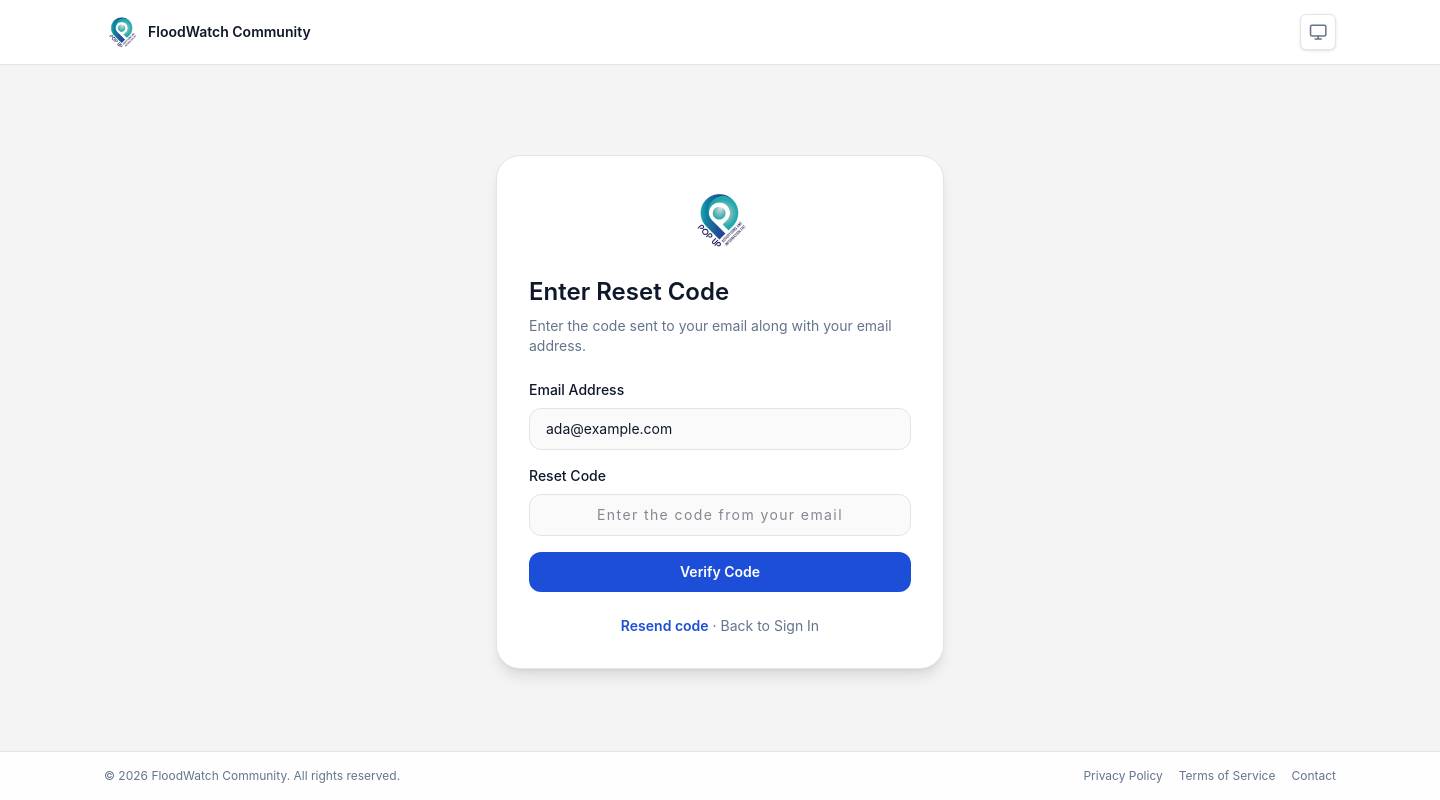
Test: Community · reset password › resets the password and shows the success panel
In the field with test id "reset-code": (720, 515) [529, 494, 911, 536], type "123456"
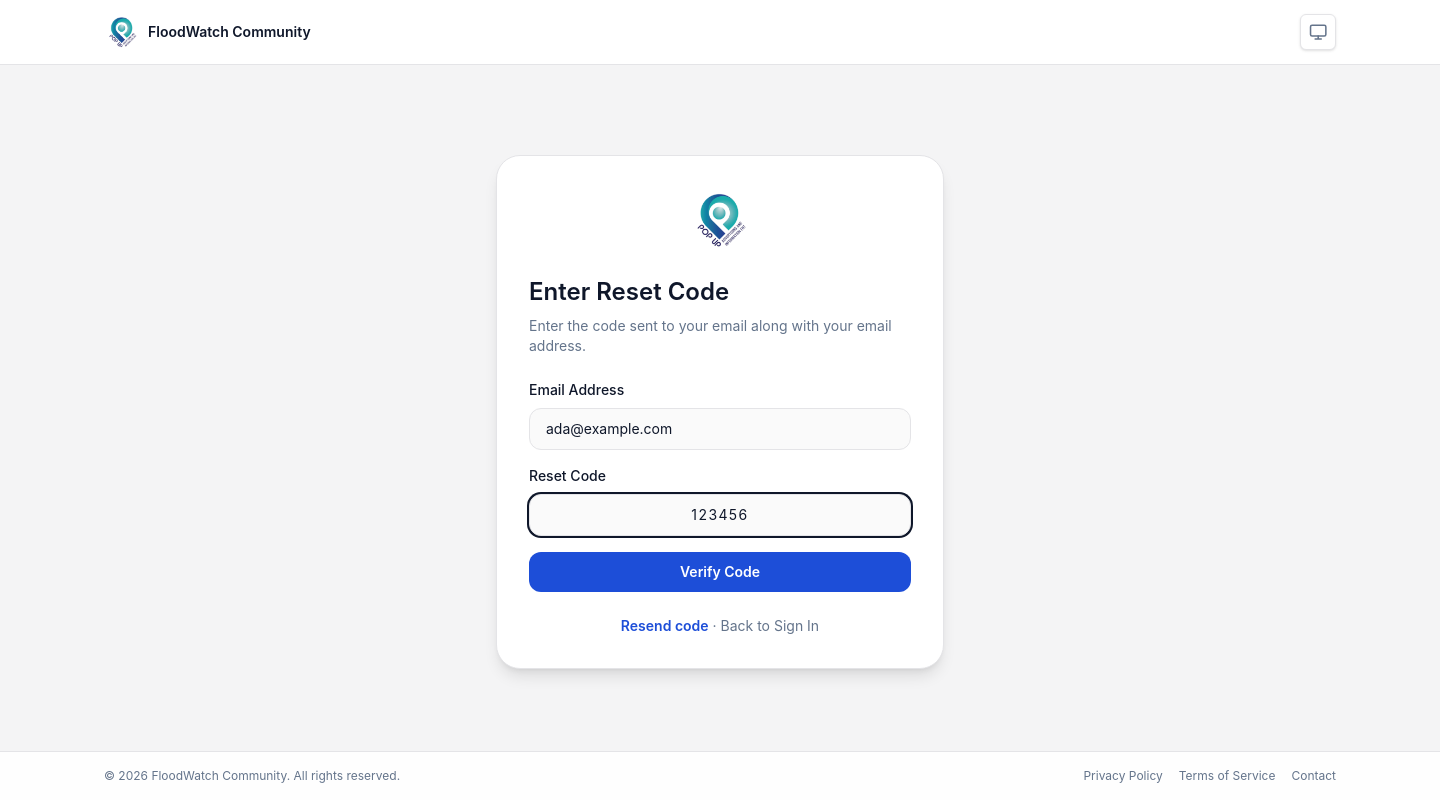
Click the button with test id "reset-verify-submit": (720, 572) [529, 552, 911, 592]
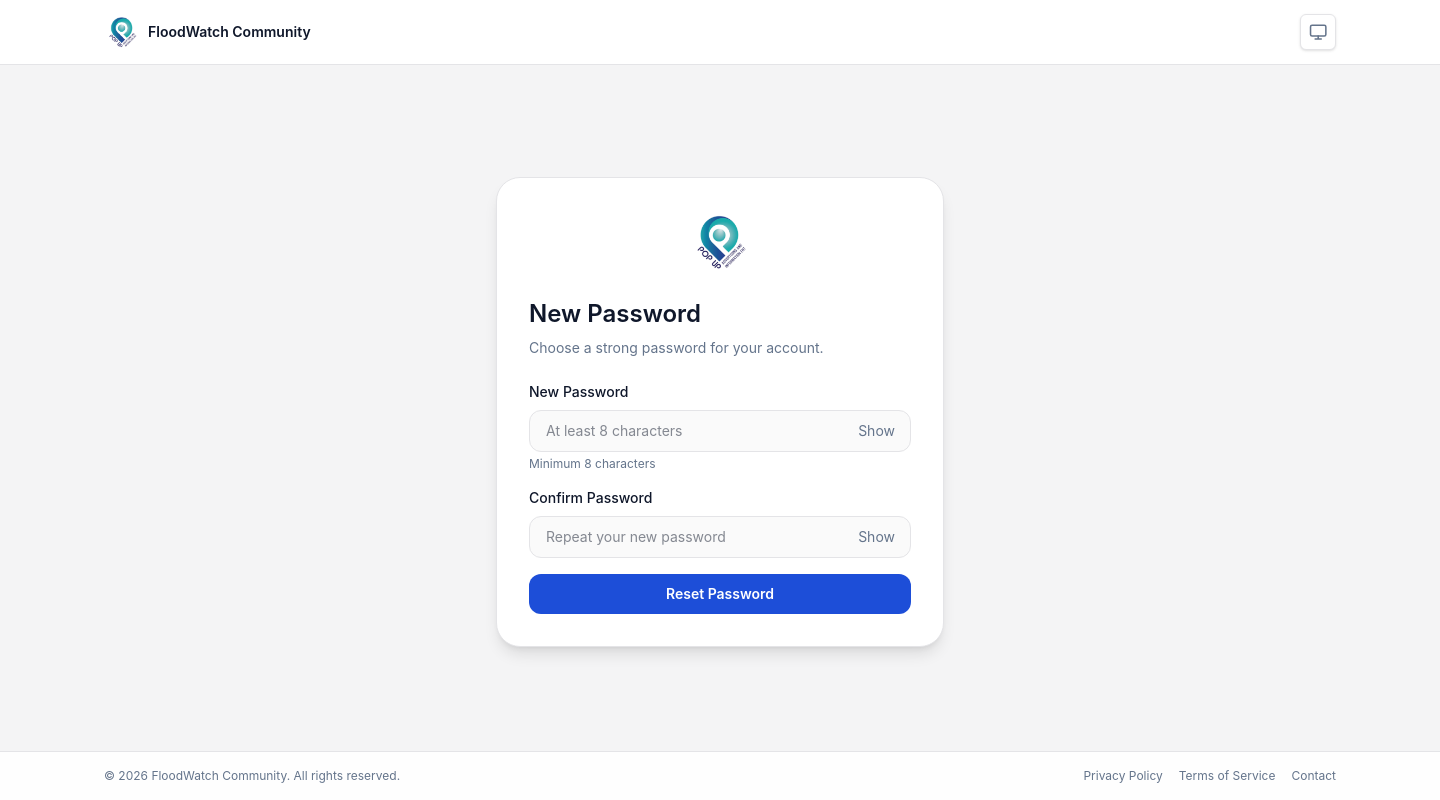
In the password field with test id "reset-new-password": (720, 431) [529, 410, 911, 452], type "NewPassword@123"
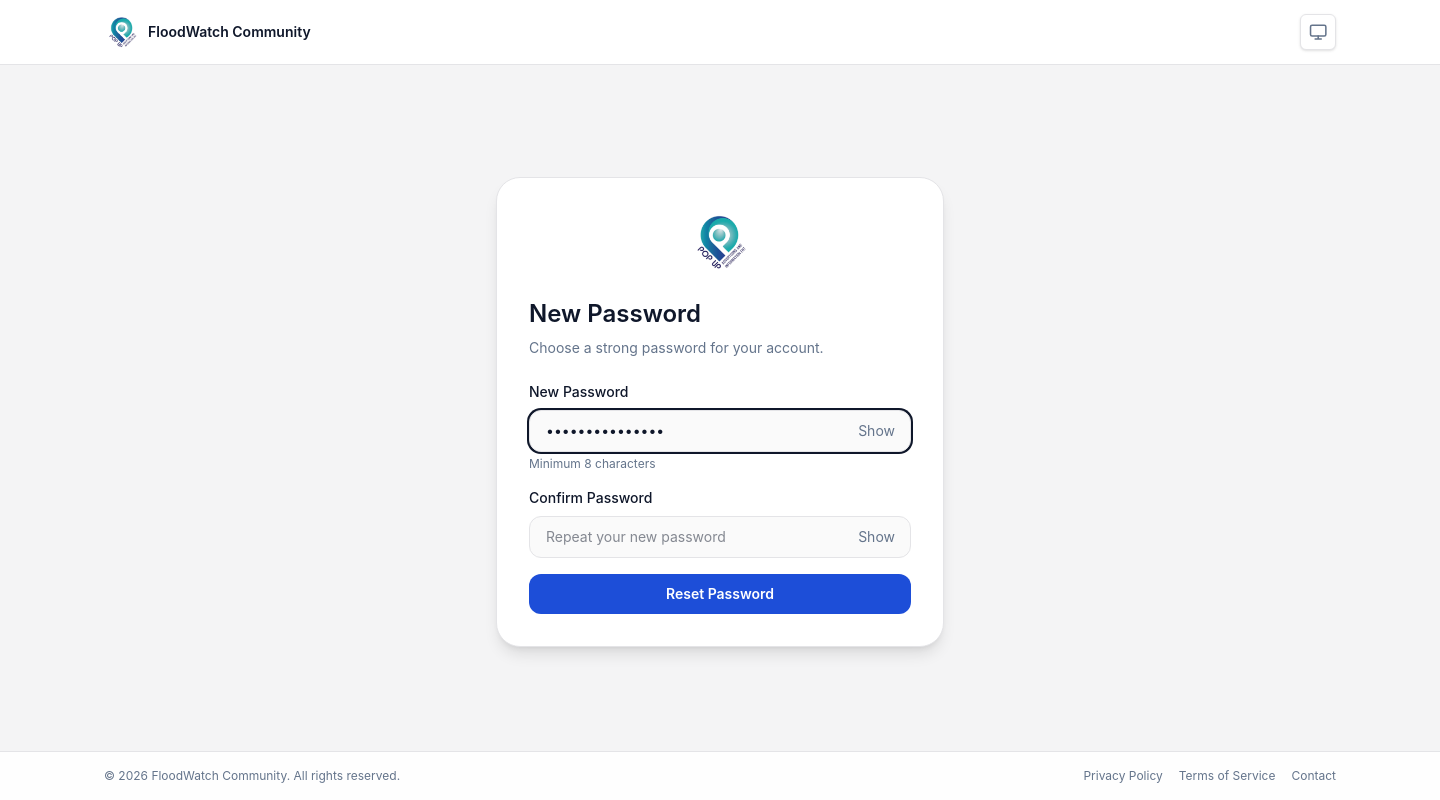
In the password field with test id "reset-confirm-password": (720, 537) [529, 516, 911, 558], type "NewPassword@123"
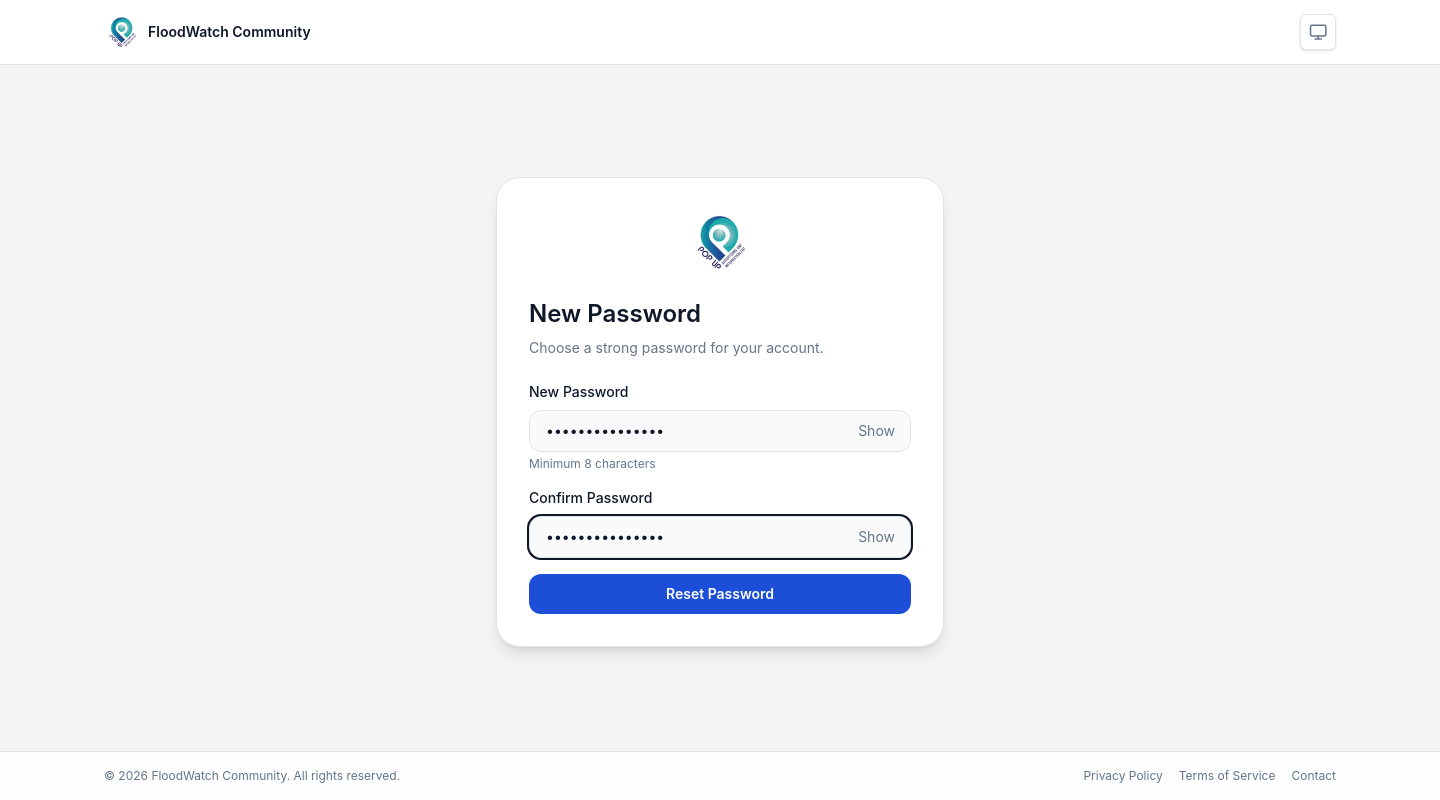
Click the button with test id "reset-submit": (720, 594) [529, 574, 911, 614]
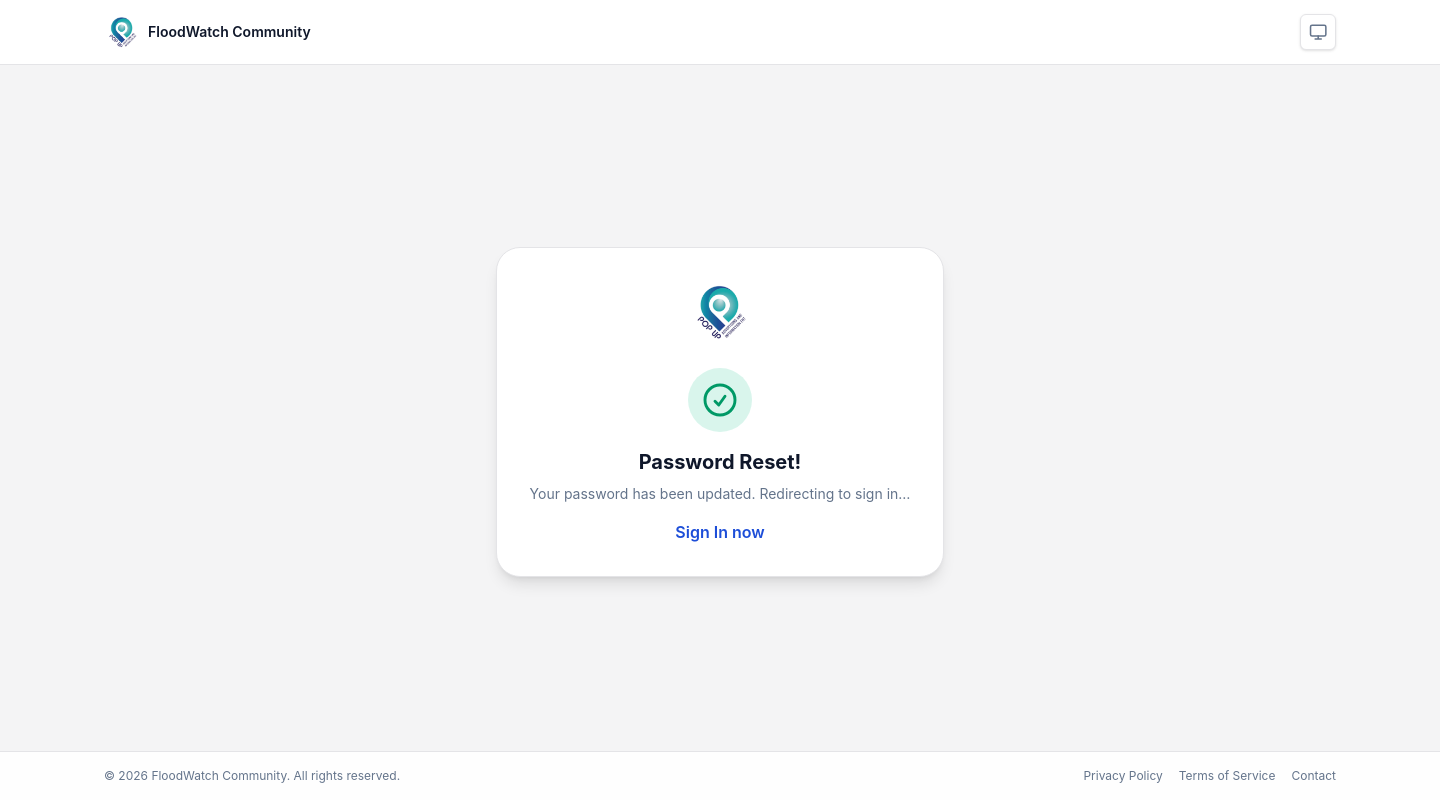
expect the element with test id "reset-done" is shown: met, box [529, 368, 911, 544]
expect the heading "Password Reset!" is shown: met, box [639, 450, 801, 474]
